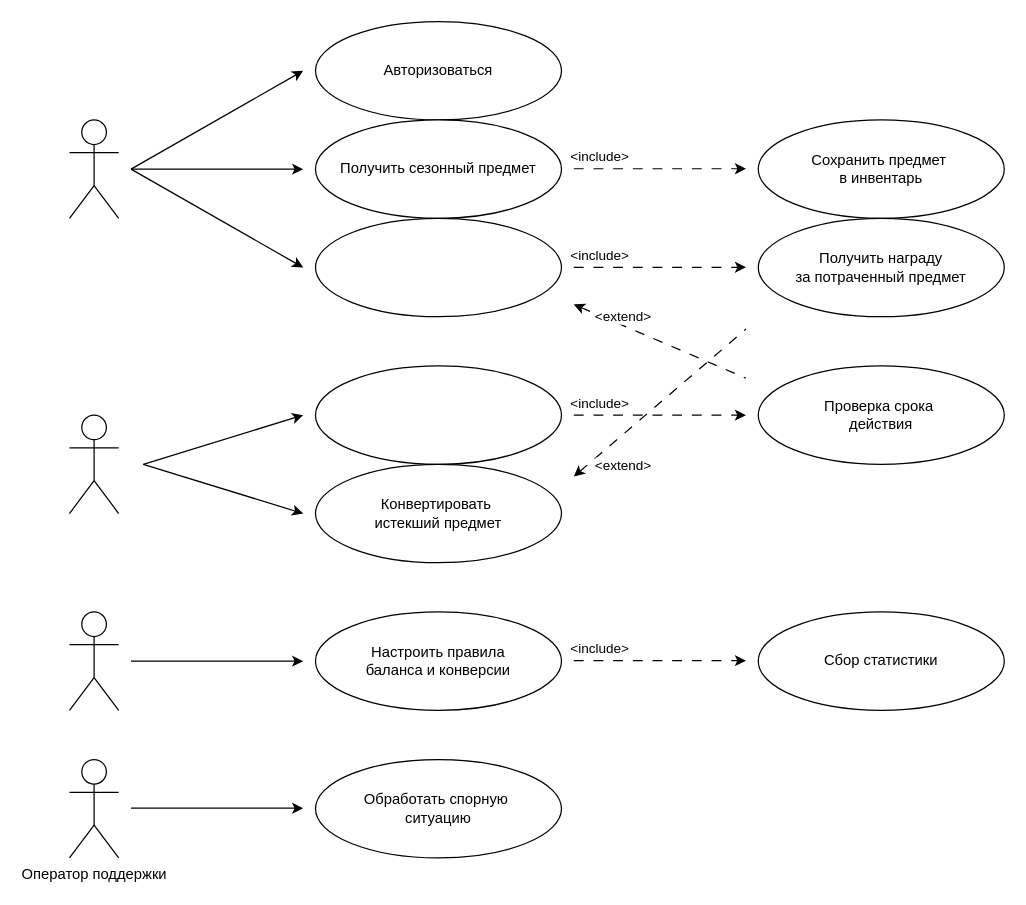
Some shapes in this 1026 by 905 pixel diagram are drawn without their labels. The shapes that lost their labels are listed below. From the top down, each one's box as (x1, y1, x2, y2) in pixels, then its label:
(68, 119, 119, 218): Игрок
(314, 217, 561, 317): Использовать предмет
(314, 365, 561, 464): Отслеживать срок действия предмета
(68, 414, 119, 514): Система
(68, 611, 119, 710): Геймдизайнер
